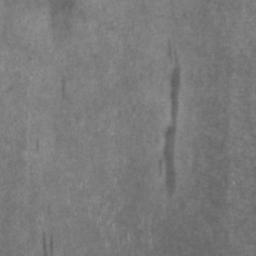Inclusion: (163, 68, 182, 189)
